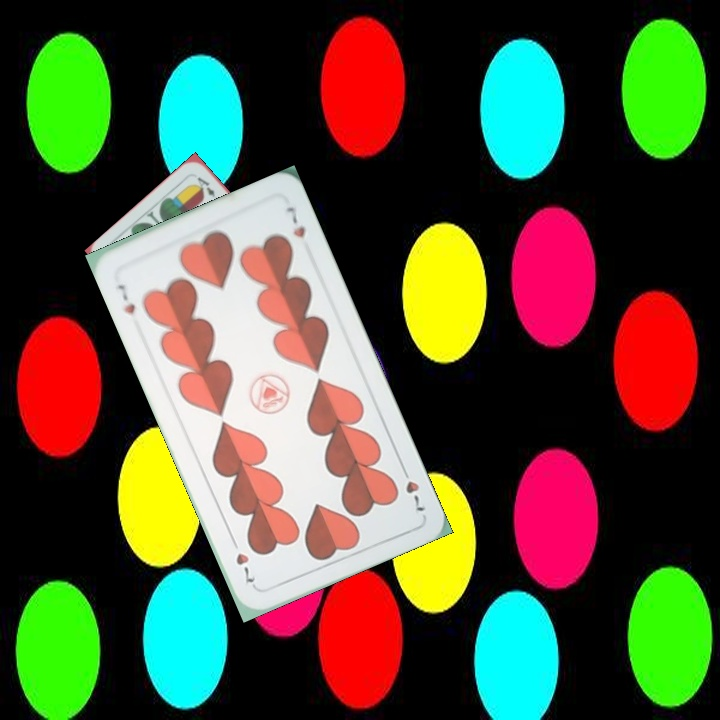H7: (396, 461, 428, 514), (113, 280, 138, 317)
